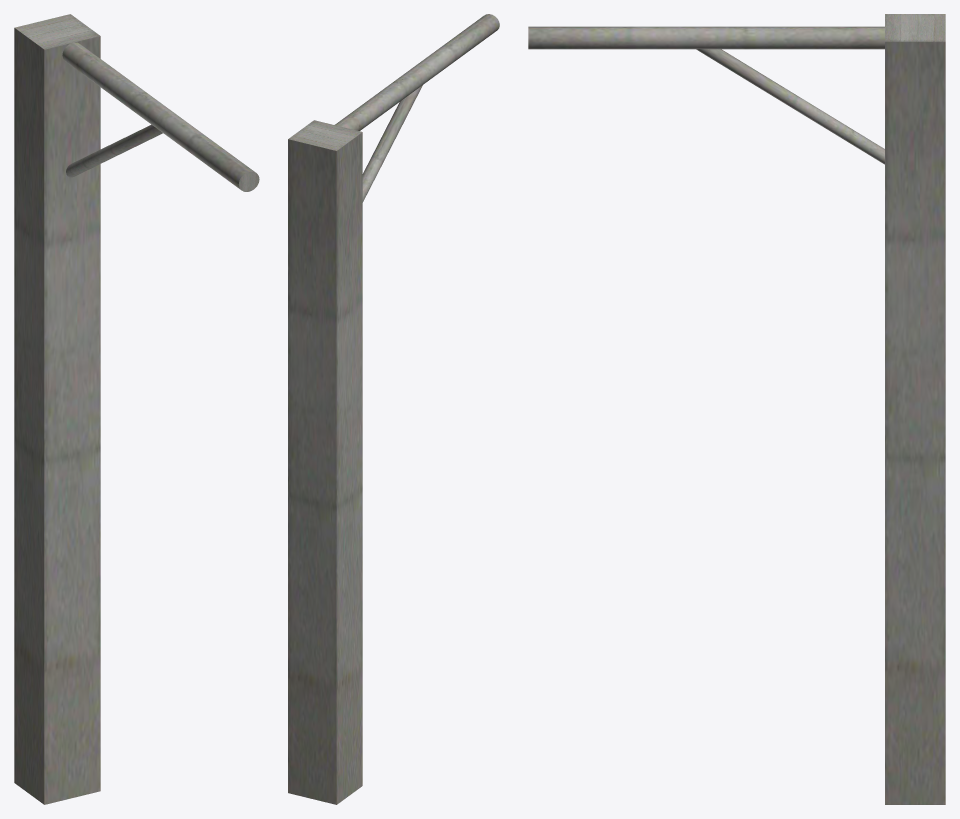
The model's file is jiazi.glb.
The picture shows the model from 3 angles, left to right: view 1: azimuth 30°, elevation 25°; view 2: azimuth 150°, elevation 25°; view 3: azimuth 270°, elevation 25°; orthographic projection. The views are drawn at different scales.
Visible parts, largest first — view 1: Box159, Cylinder003, Cylinder004; view 2: Box159, Cylinder003, Cylinder004; view 3: Box159, Cylinder003, Cylinder004.
Boxes of the visible parts, <box> form: Box159: <box>14,14,100,804</box>; Cylinder003: <box>62,42,259,191</box>; Cylinder004: <box>66,124,162,177</box>; Box159: <box>288,120,362,804</box>; Cylinder003: <box>335,14,499,130</box>; Cylinder004: <box>362,85,422,202</box>; Box159: <box>885,14,945,804</box>; Cylinder003: <box>528,26,884,49</box>; Cylinder004: <box>696,49,884,164</box>.
Bounding box in the file's own units: 316 × 4058 × 2010.
Materials: 4 (3 with a texture image).
